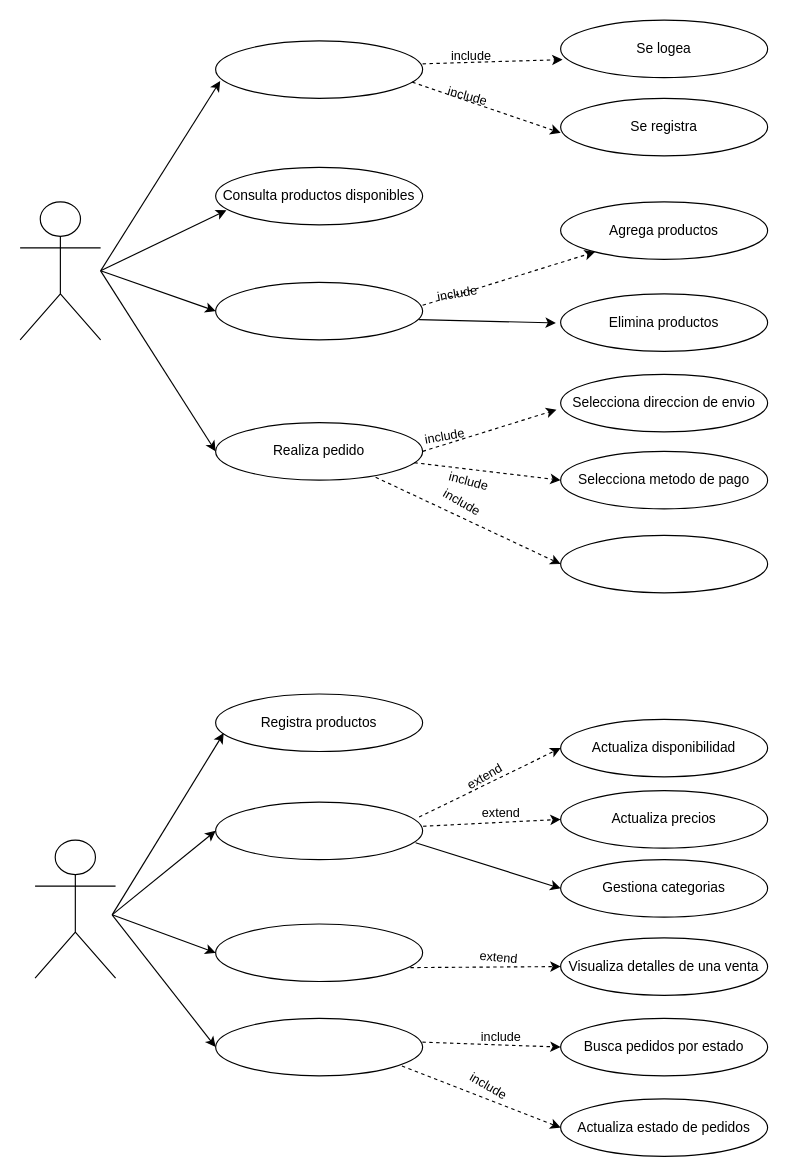
This 788x1176 diagram has some shape labels left out. The centre of each missing label's shape, as x and y in pixels:
"Administrador" goes at (75,908).
"Cliente" goes at (60,270).
"Confirma compra" goes at (663,563).
"Consulta ventas historicas" goes at (318,952).
"Gestiona carrito de compras" goes at (318,310).
"Gestiona los productos" goes at (318,830).
"Ingresa a la pagina" goes at (318,69).
"Verifica estados de pedidos" goes at (318,1046).
